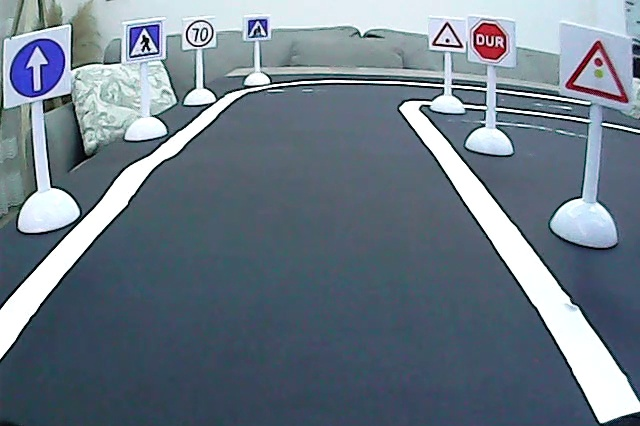green light: (430, 20, 465, 51)
pedestrian crossing: (126, 24, 162, 58)
red light: (564, 33, 634, 108)
school crossing: (246, 16, 269, 40)
speed limit 70: (185, 18, 214, 49)
stop sign: (470, 18, 512, 64)
